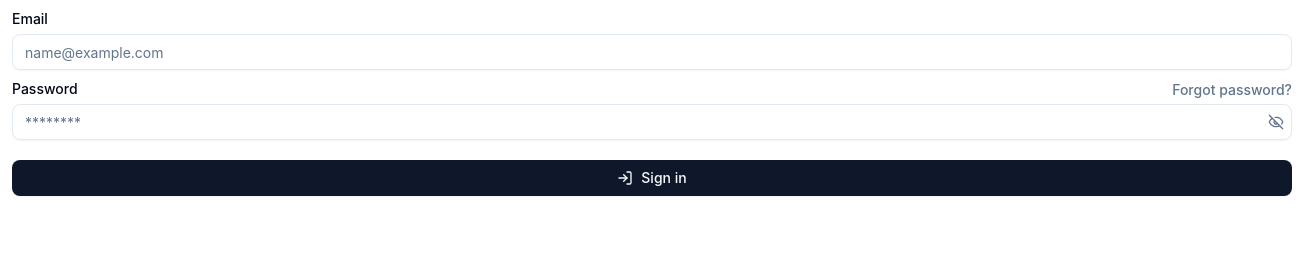
UserAuthForm › shows validation messages when submitting empty form
What coordinates should you click on to do the following:
click the button "Sign in"
I would click on:
 (652, 178)
Its box is x1=12 y1=160 x2=1292 y2=196.
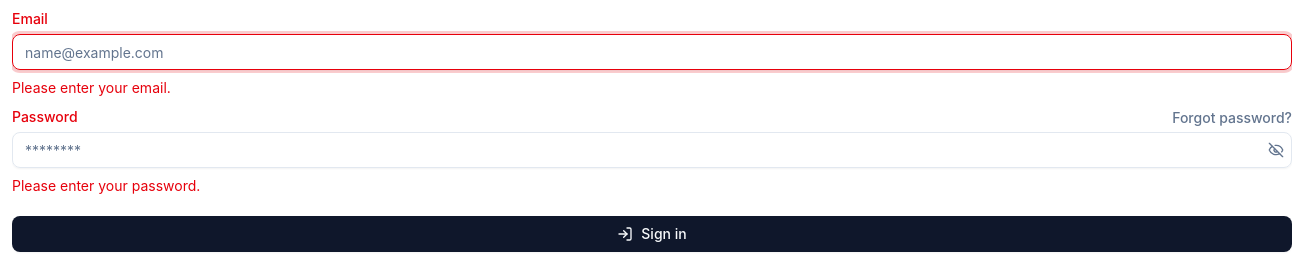
Result: the text "Please enter your email." is shown at x1=12 y1=79 x2=171 y2=96
